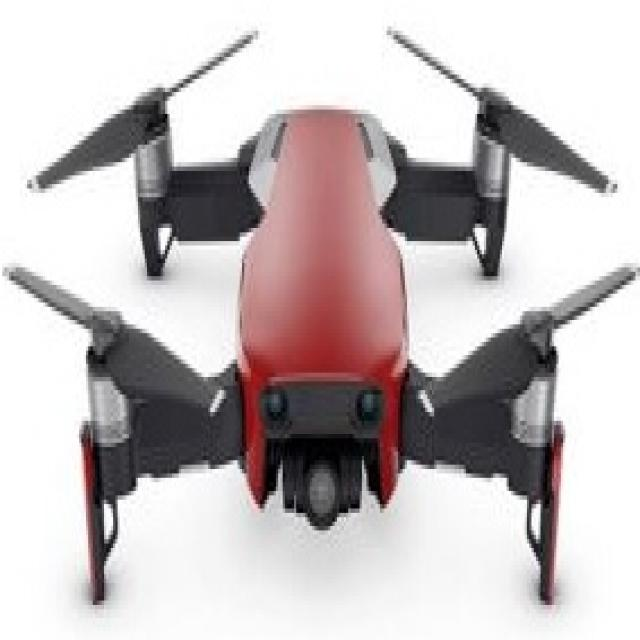drone: (0, 11, 640, 616)
